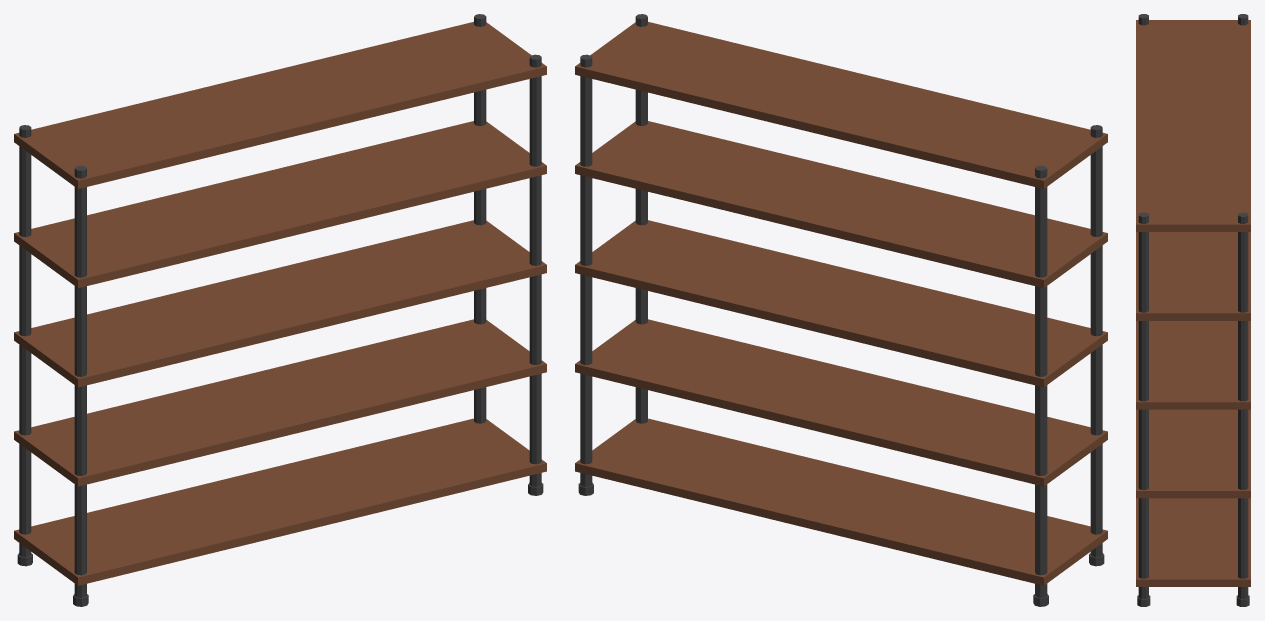
The model's file is SM_Props_Rack_02.fbx.
3 views of the same model, side by side, from view 1: azimuth 30°, elevation 25°; view 2: azimuth 150°, elevation 25°; view 3: azimuth 270°, elevation 25° (orthographic). The views are drawn at different scales.
Visible parts, largest first — view 1: SM_Props_Rack_02; view 2: SM_Props_Rack_02; view 3: SM_Props_Rack_02.
Boxes of the visible parts, x1,y1,x2,y2 form: SM_Props_Rack_02: [14, 14, 546, 606]; SM_Props_Rack_02: [575, 14, 1107, 606]; SM_Props_Rack_02: [1136, 14, 1250, 606].
Size of the model in its own units: 2.44 by 2.16 by 0.5767.
